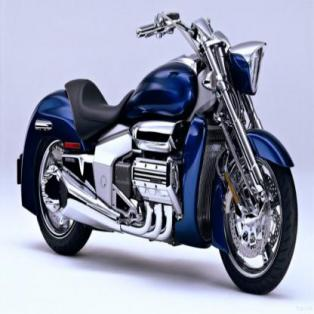Motocicleta: (16, 0, 300, 298)
